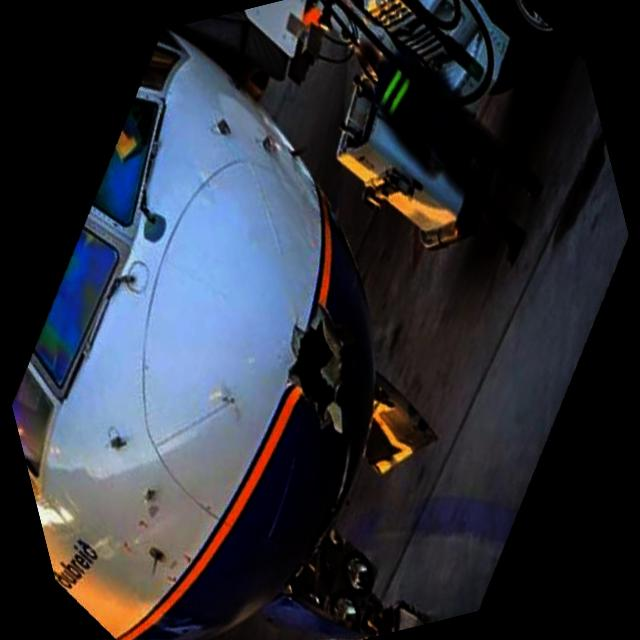crack: (265, 293, 379, 449)
